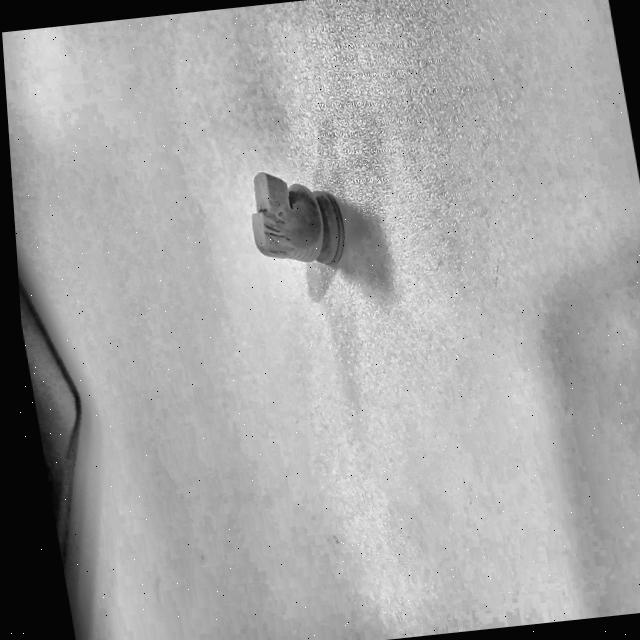white-knight: (238, 140, 370, 294)
